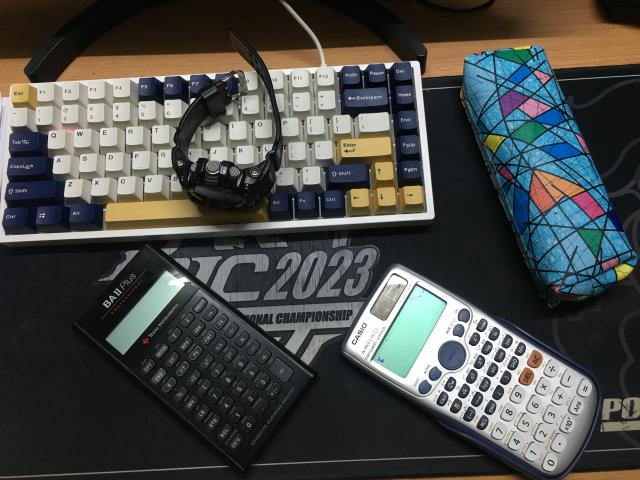Watch: (171, 31, 282, 210)
